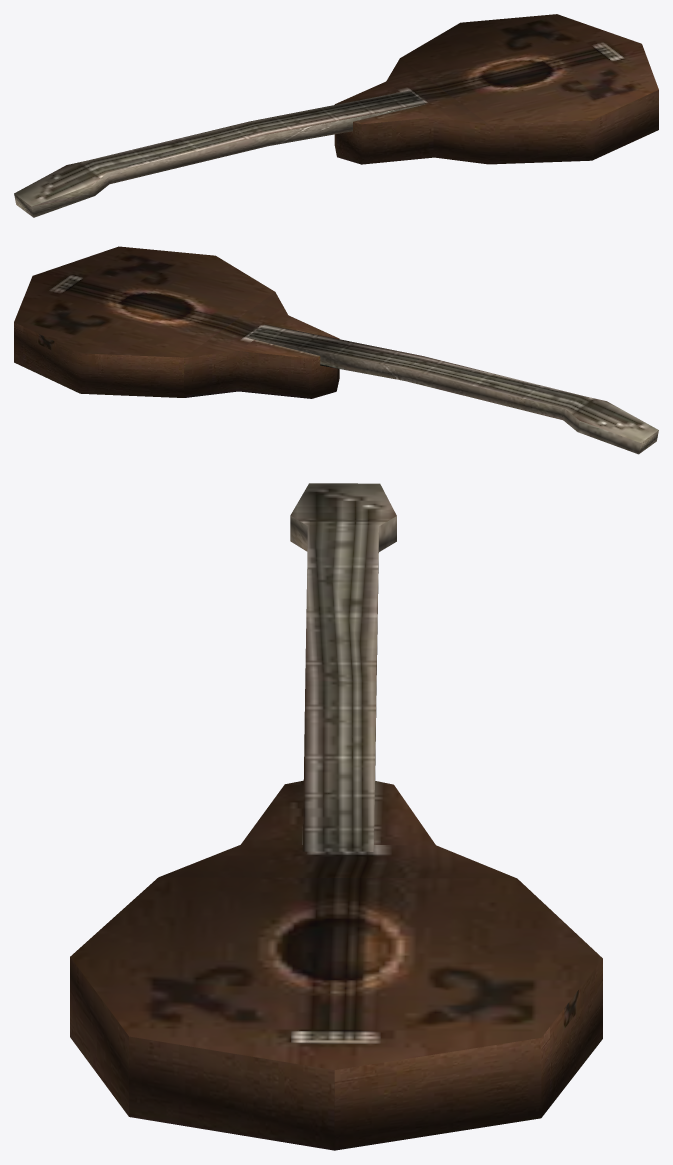
The model's file is ITMI_LUTE.glb.
3 views of the same model, one above another, from view 1: azimuth 30°, elevation 25°; view 2: azimuth 150°, elevation 25°; view 3: azimuth 270°, elevation 25° (orthographic). The views are drawn at different scales.
Parts seen in each view (by area): view 1: Mesh; view 2: Mesh; view 3: Mesh.
Part boxes in pixels (left/top/right/bottom): Mesh: left=14, top=14, right=658, bottom=217; Mesh: left=14, top=246, right=658, bottom=454; Mesh: left=70, top=483, right=602, bottom=1150.
Bounding box in the file's own units: 1.11 × 0.0826 × 0.4138.
1 material, 1 textured.
